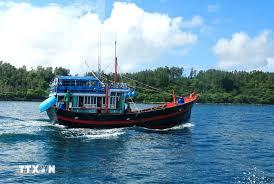Ship: (40, 57, 200, 129)
